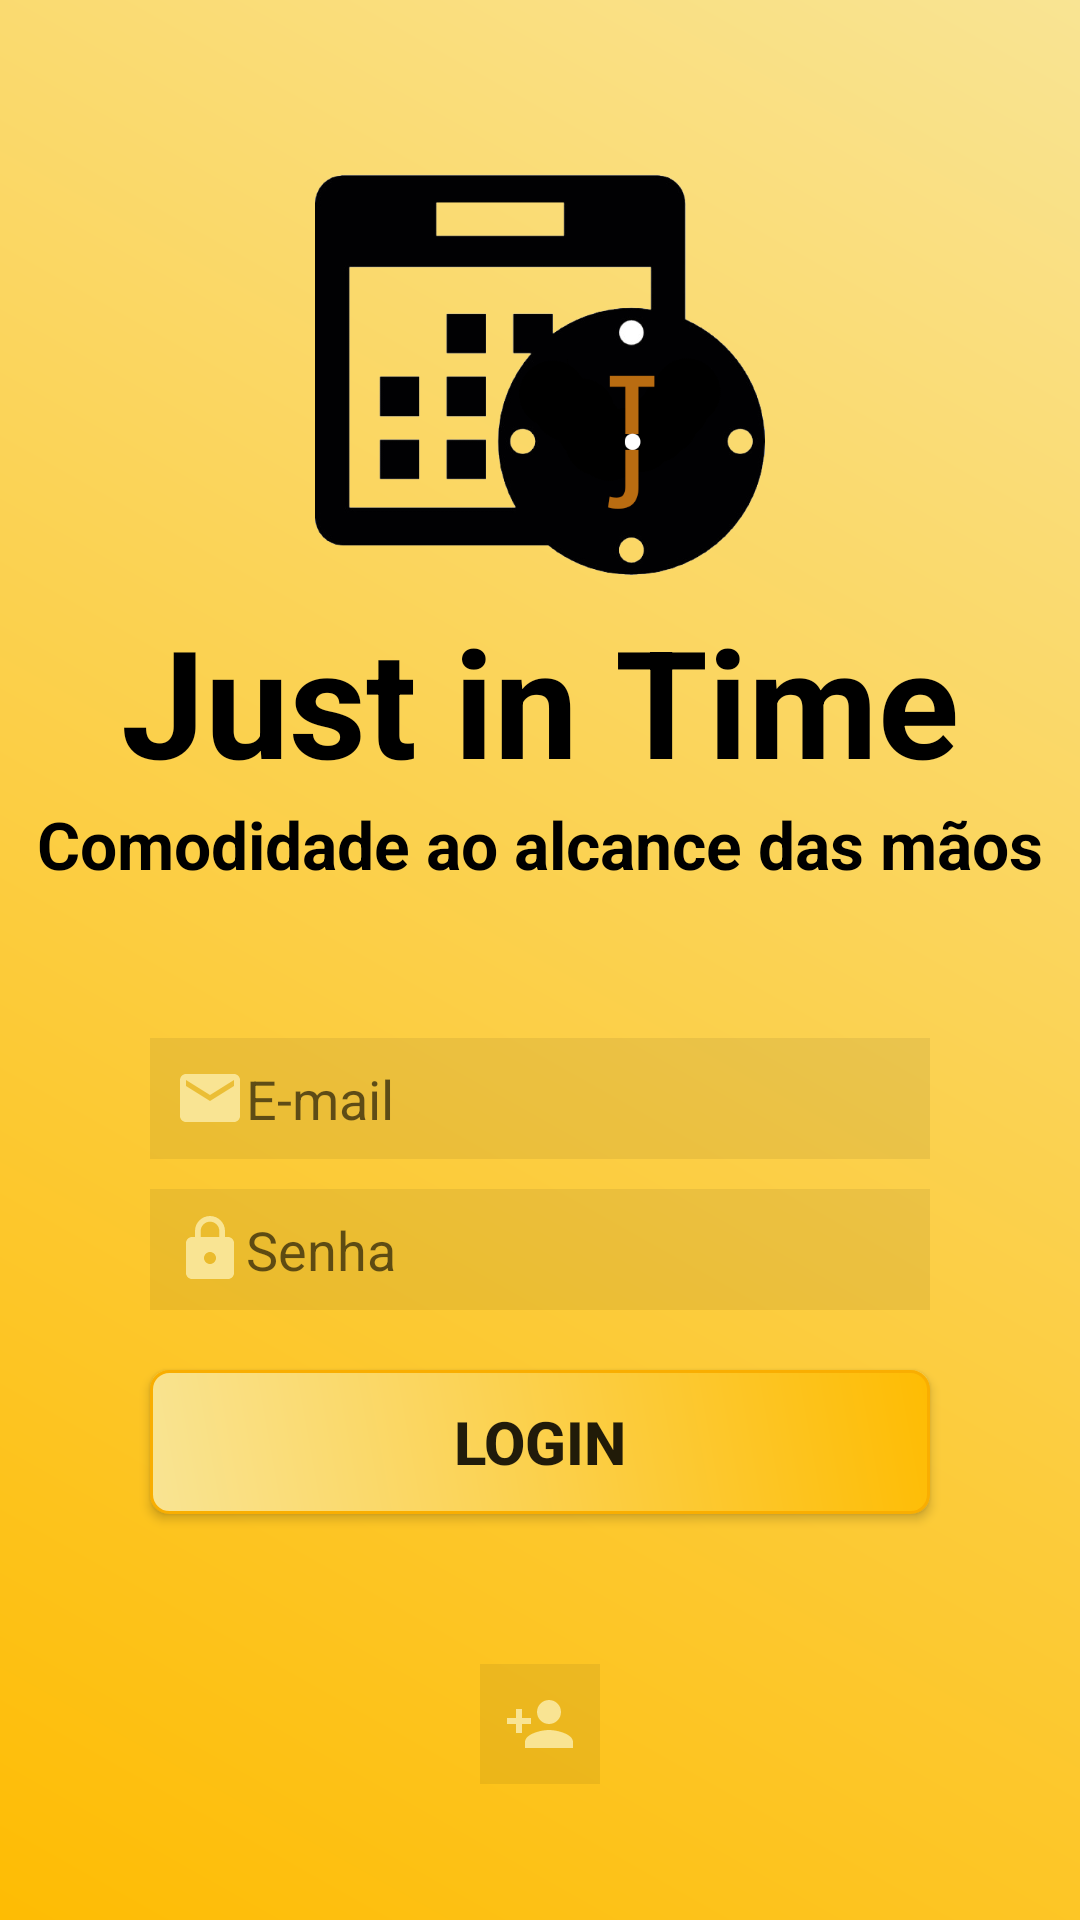

Icons on this 1080 × 1920 Android screen, each with the point to tap as (x=x, y=y):
nova conta: (x=540, y=1724)
